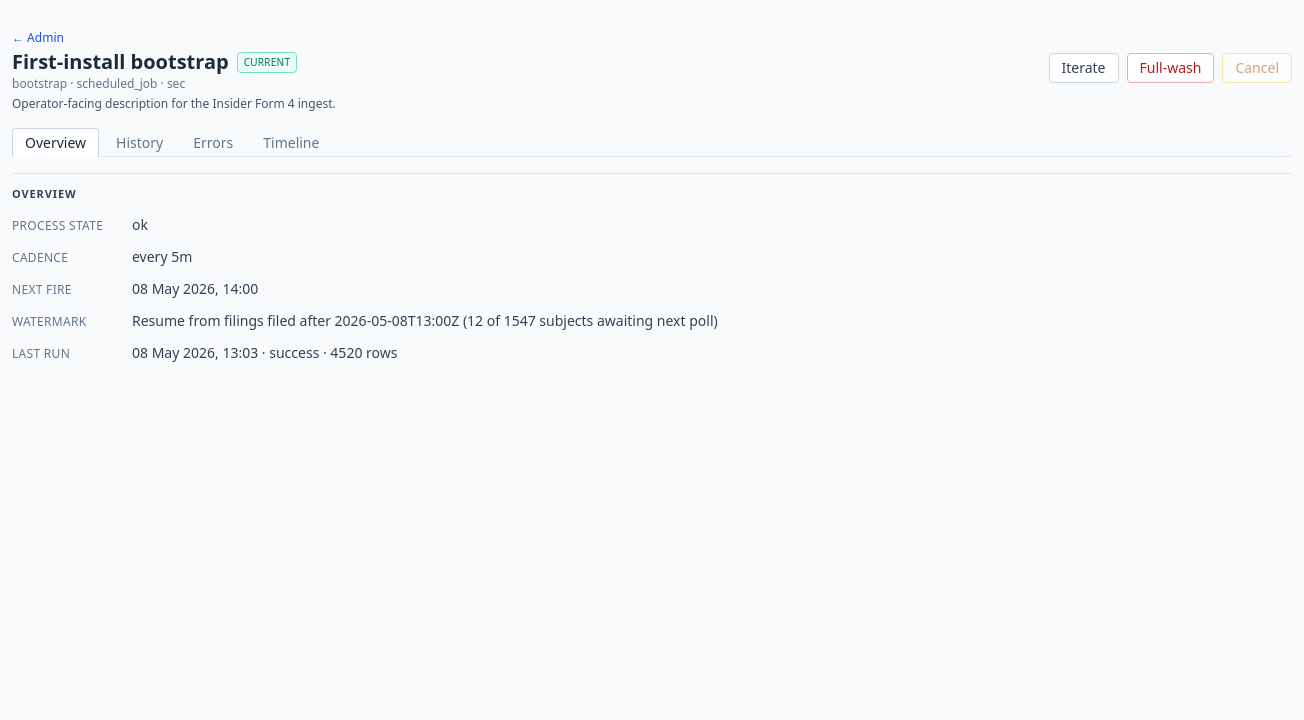
ProcessDetailPage — Timeline tab (bootstrap) › fetches /timeline and renders stages grouped by lane when Timeline tab is opened
The image size is (1304, 720).
Click the tab "Timeline" at (291, 142), box [250,128,332,157]
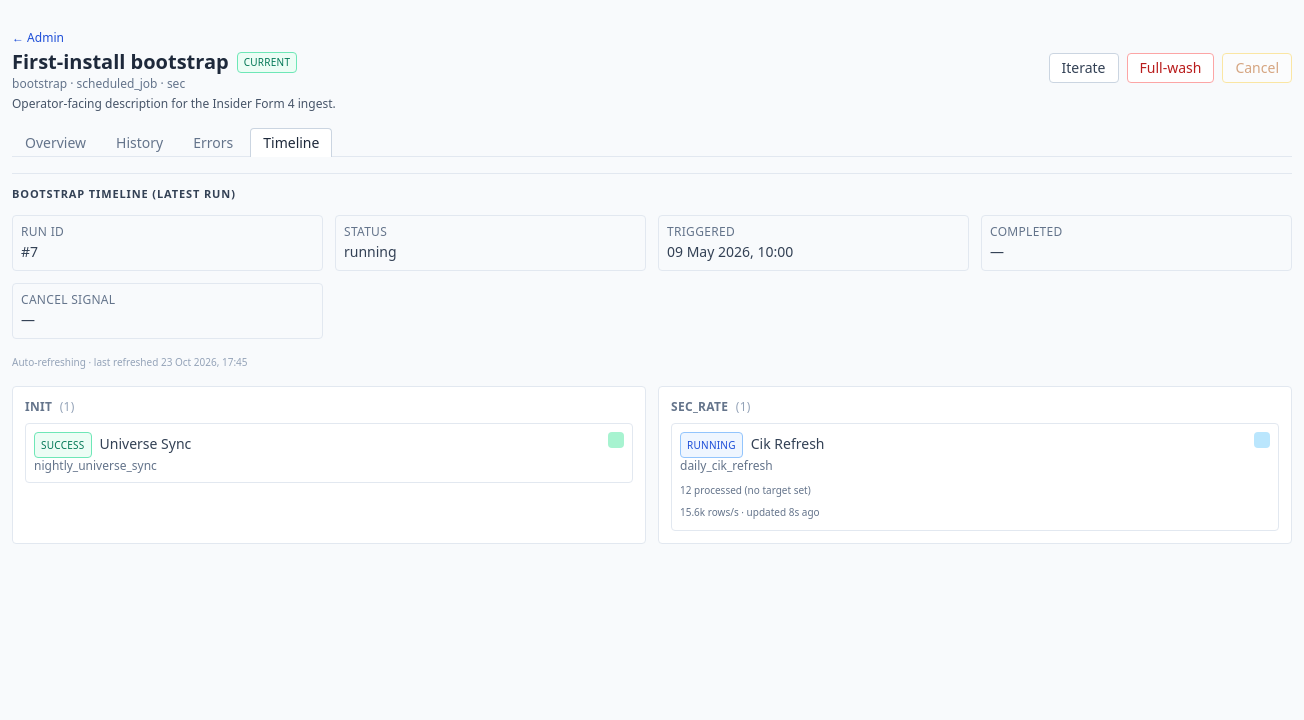
Result: the text "Universe Sync" is shown at [100,434,191,454]
Result: the text "Cik Refresh" is shown at [751,434,825,454]
Result: the heading "init (1)" is shown at [25,398,75,414]
